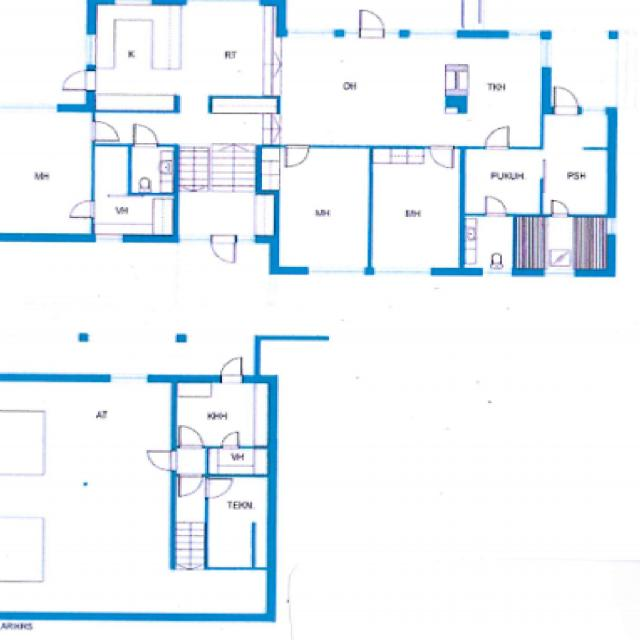door: (210, 235, 234, 264), (62, 69, 96, 89), (428, 142, 454, 168), (554, 86, 579, 113), (285, 142, 310, 168), (360, 8, 383, 36), (220, 354, 242, 382), (92, 120, 121, 141), (180, 425, 203, 449), (134, 123, 158, 146), (485, 124, 508, 148), (147, 451, 176, 470), (485, 194, 508, 217), (202, 479, 230, 497), (180, 472, 202, 493), (71, 200, 96, 217), (220, 429, 239, 449), (551, 198, 570, 217)
